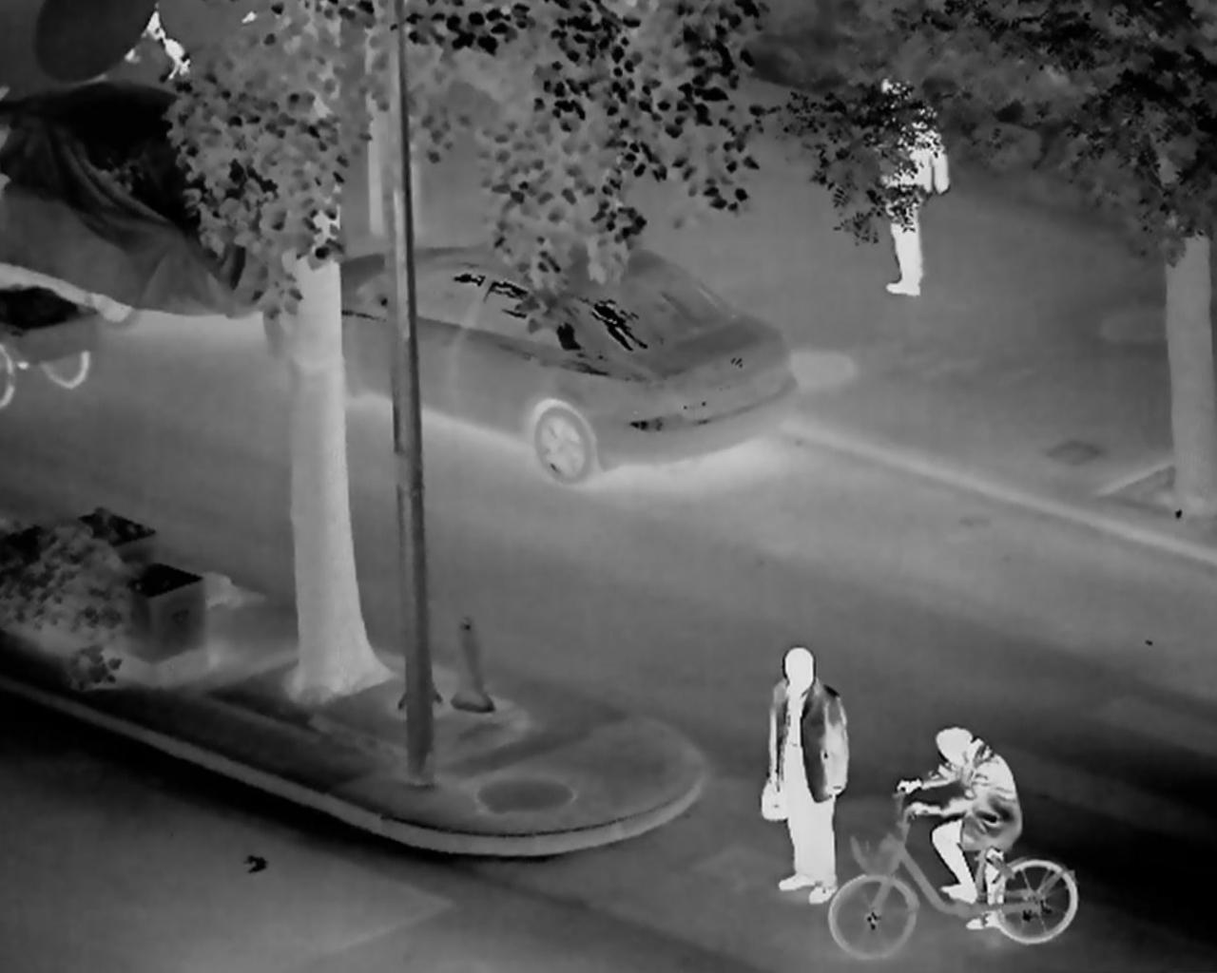person: (894, 725, 1023, 931), (757, 645, 850, 908), (868, 77, 948, 298)
